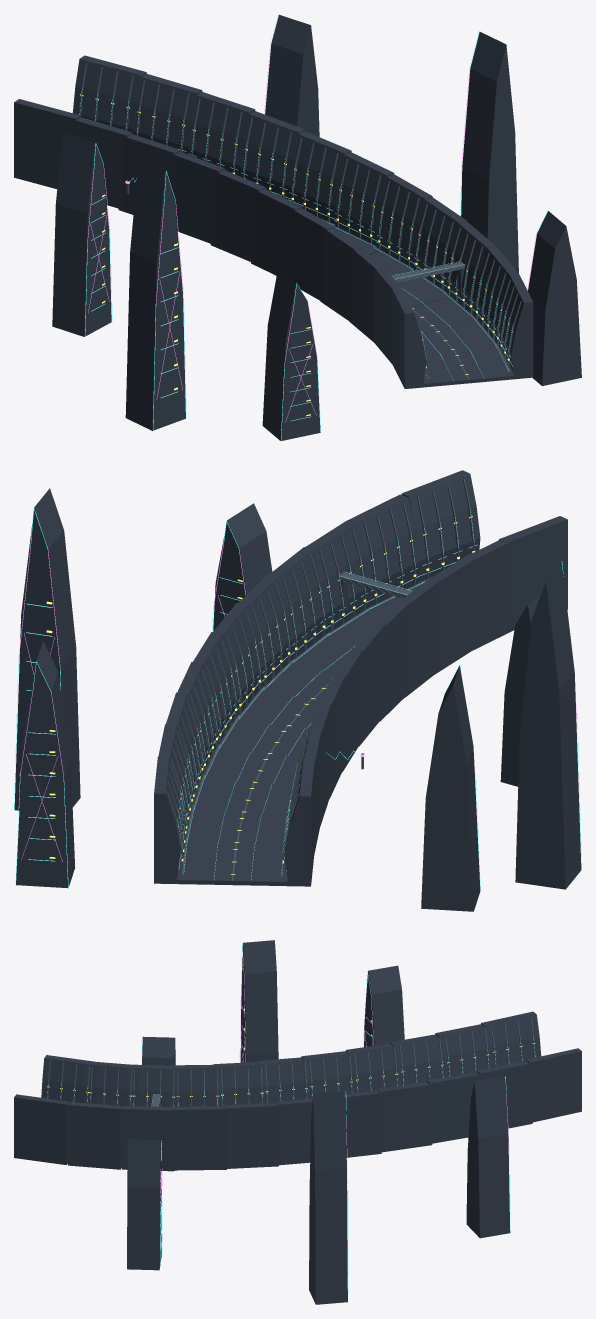
The model's file is route_batch_10.glb.
3 renders of one model, top to bottom at view 1: azimuth 30°, elevation 25°; view 2: azimuth 150°, elevation 25°; view 3: azimuth 270°, elevation 25°, orthographic. The views are drawn at different scales.
Parts seen in each view (by area): view 1: route_batch_10; view 2: route_batch_10; view 3: route_batch_10.
Part boxes in pixels (x1,y1,x2,y2): route_batch_10: (14, 14, 581, 441); route_batch_10: (14, 470, 581, 911); route_batch_10: (14, 940, 581, 1304).
Bounding box in the file's own units: 503 × 292 × 731.
